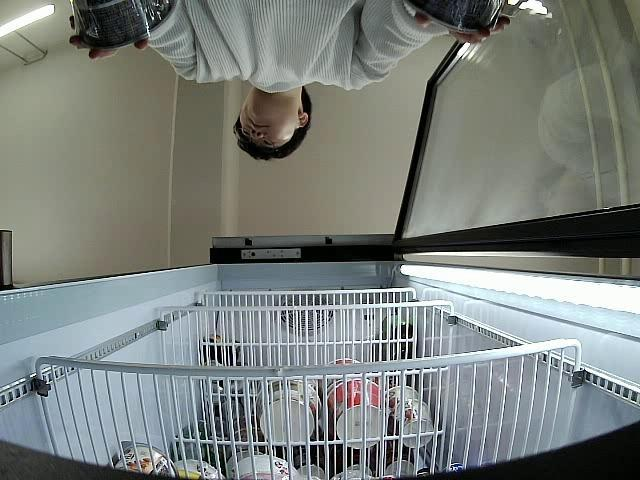07_buldak_L: (70, 0, 178, 51), (402, 0, 506, 37)
